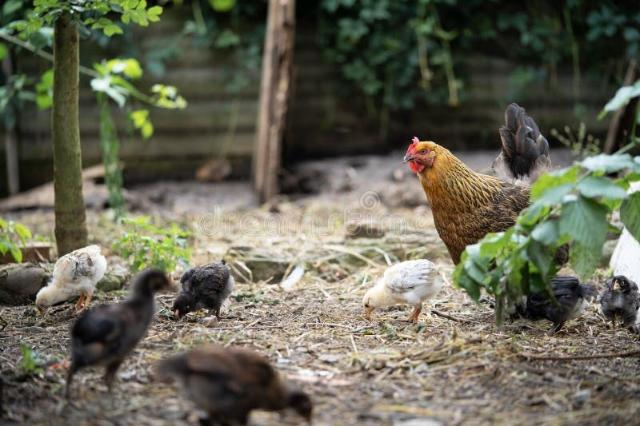Chicken: (402, 104, 552, 268)
